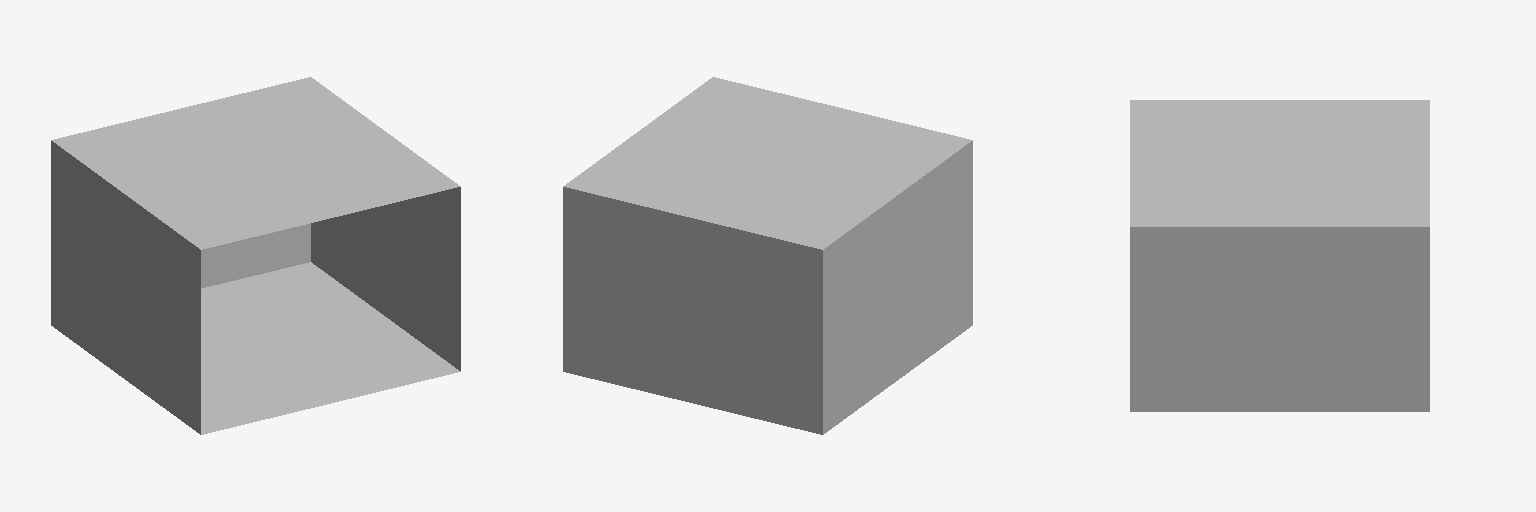
File: wall.obj
The picture shows the model from 3 angles: view 1: azimuth 30°, elevation 25°; view 2: azimuth 150°, elevation 25°; view 3: azimuth 270°, elevation 25°; orthographic projection.
Parts seen in each view (by area): view 1: pCube4; view 2: pCube4; view 3: pCube4.
Part boxes in pixels (bbox=[...]): pCube4: bbox=[51, 77, 460, 434]; pCube4: bbox=[563, 77, 972, 434]; pCube4: bbox=[1130, 100, 1429, 411].
Bounding box in the file's own units: 14.99 × 10.2 × 14.99.